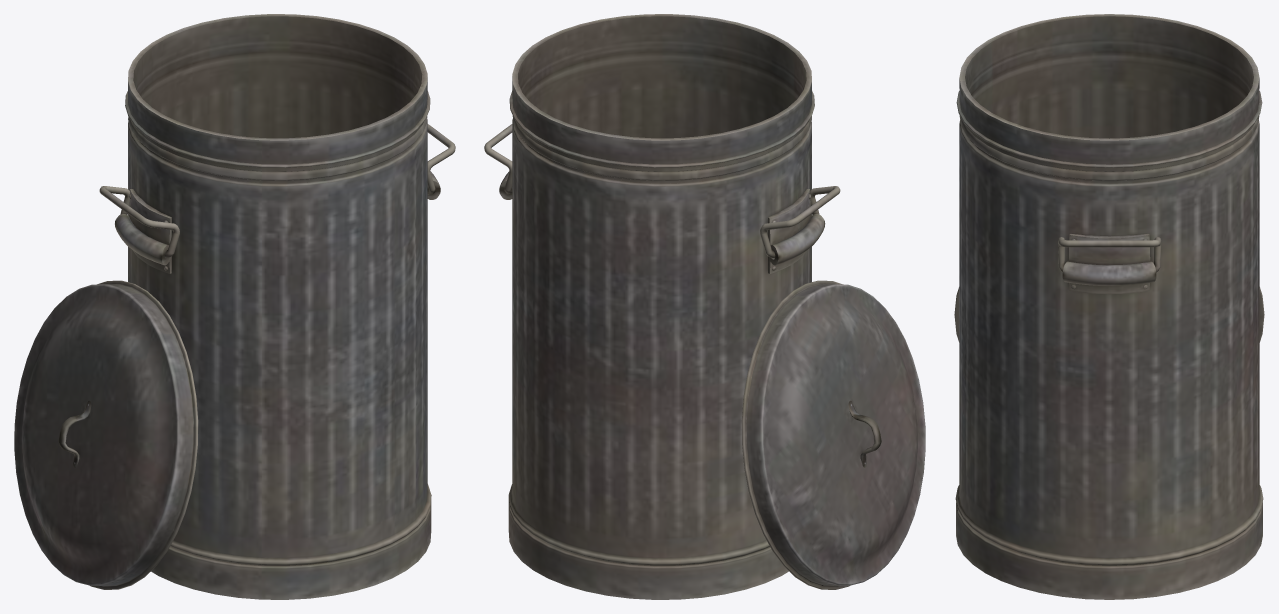
Rendered from metal_trash_can.gltf.
3 renders of one model, left to right at view 1: azimuth 30°, elevation 25°; view 2: azimuth 150°, elevation 25°; view 3: azimuth 270°, elevation 25°, orthographic.
Parts seen in each view (by area): view 1: metal_trash_can, metal_trash_can_lid, metal_trash_can_handle_left, metal_trash_can_handle_right; view 2: metal_trash_can, metal_trash_can_lid, metal_trash_can_handle_left, metal_trash_can_handle_right; view 3: metal_trash_can, metal_trash_can_handle_right, metal_trash_can_lid.
Part boxes in pixels (<box>): metal_trash_can: <box>115,14,440,599</box>; metal_trash_can_lid: <box>14,280,198,589</box>; metal_trash_can_handle_left: <box>99,186,179,257</box>; metal_trash_can_handle_right: <box>427,124,455,193</box>; metal_trash_can: <box>499,14,825,599</box>; metal_trash_can_lid: <box>741,280,925,589</box>; metal_trash_can_handle_left: <box>760,186,840,258</box>; metal_trash_can_handle_right: <box>484,124,512,193</box>; metal_trash_can: <box>955,14,1263,599</box>; metal_trash_can_handle_right: <box>1058,237,1161,272</box>; metal_trash_can_lid: <box>954,287,1264,342</box>.
Bounding box in the file's own units: 0.778 × 0.9062 × 0.5563.
1 material, 1 textured.
